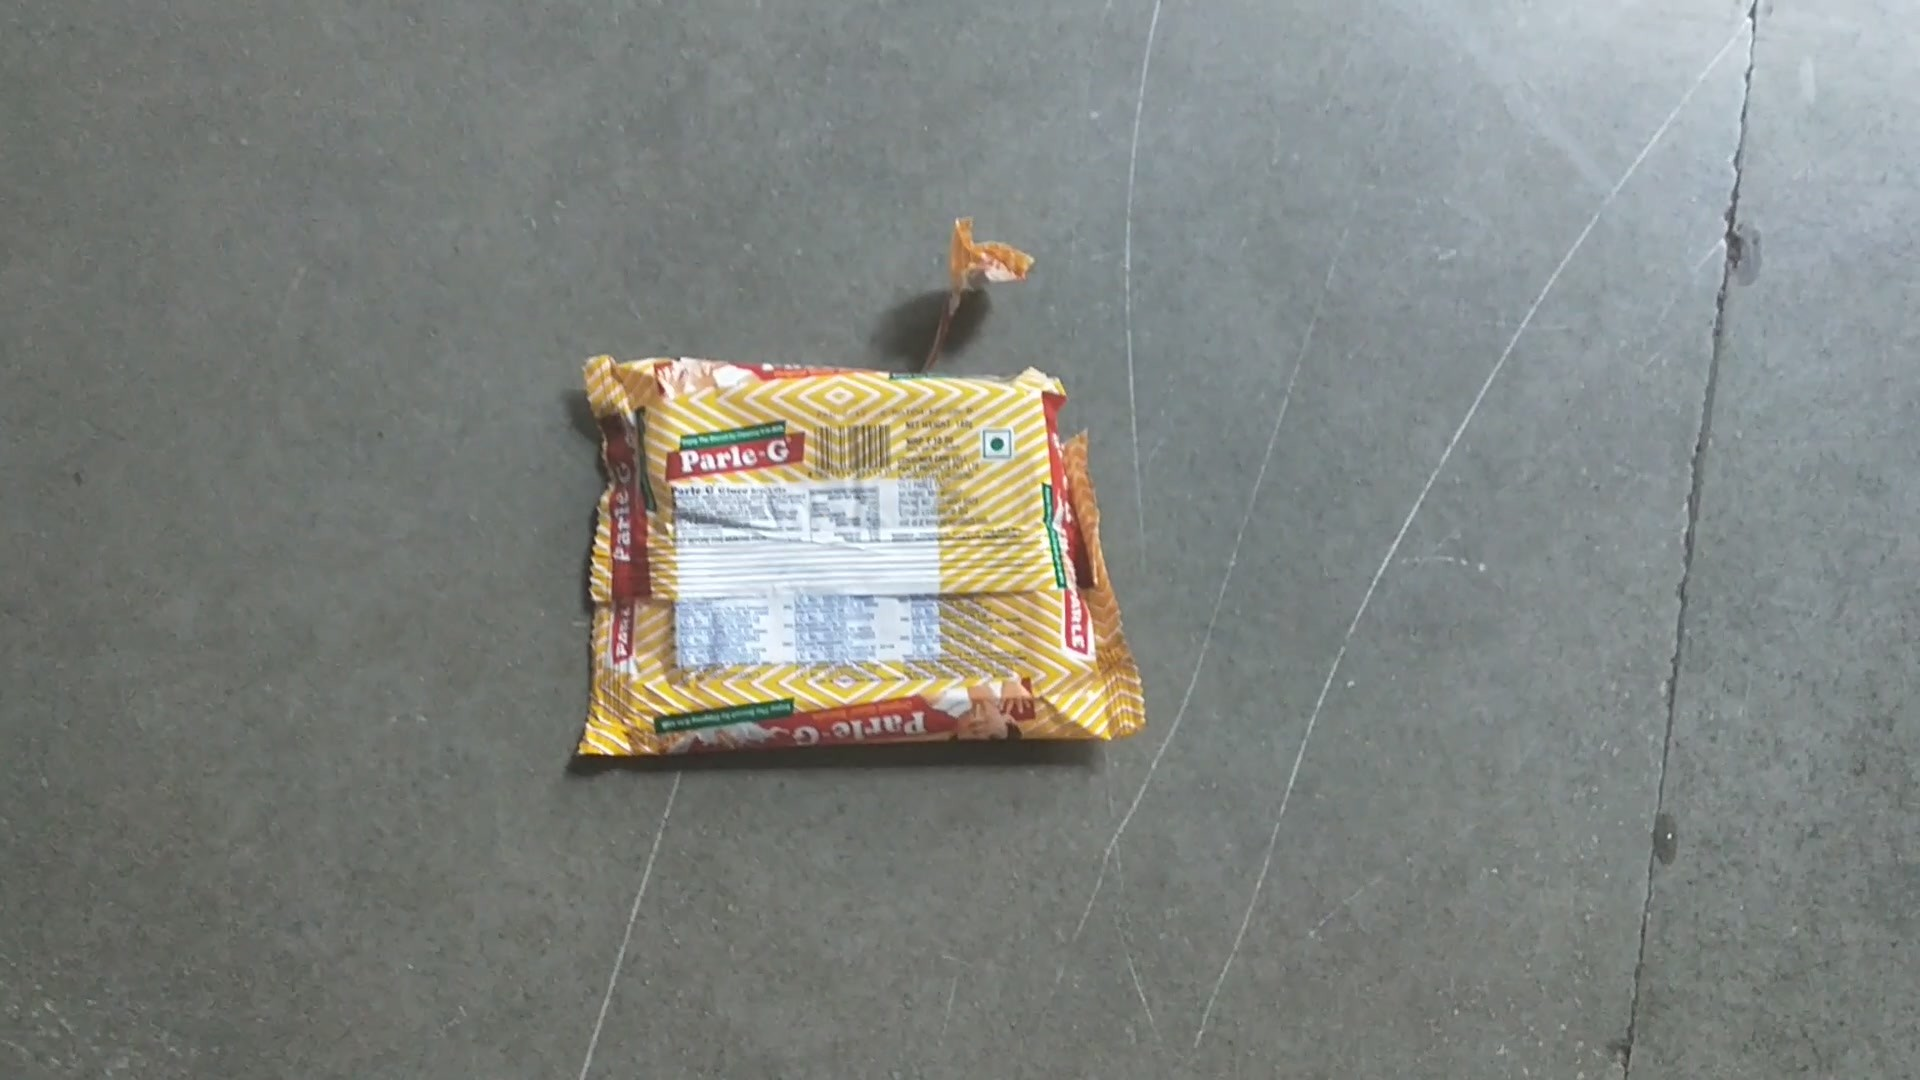parle-g-b: (616, 385, 1069, 717)
